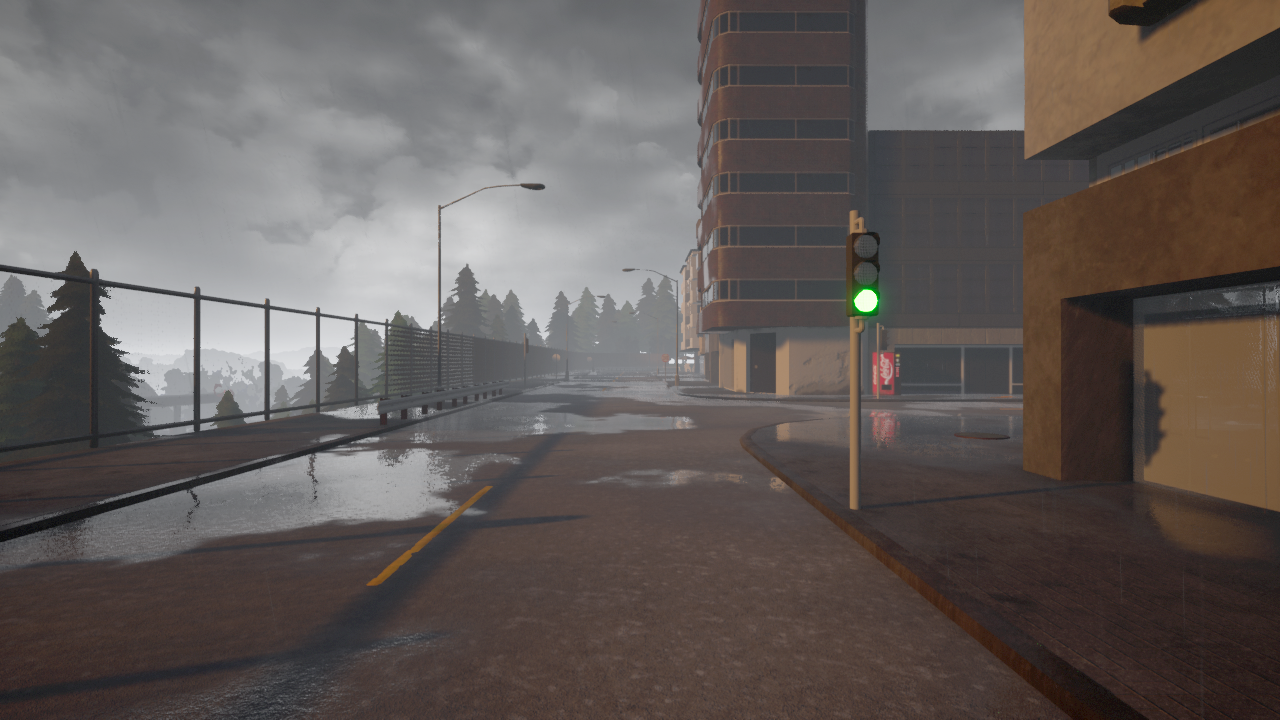green: (846, 229, 882, 316)
